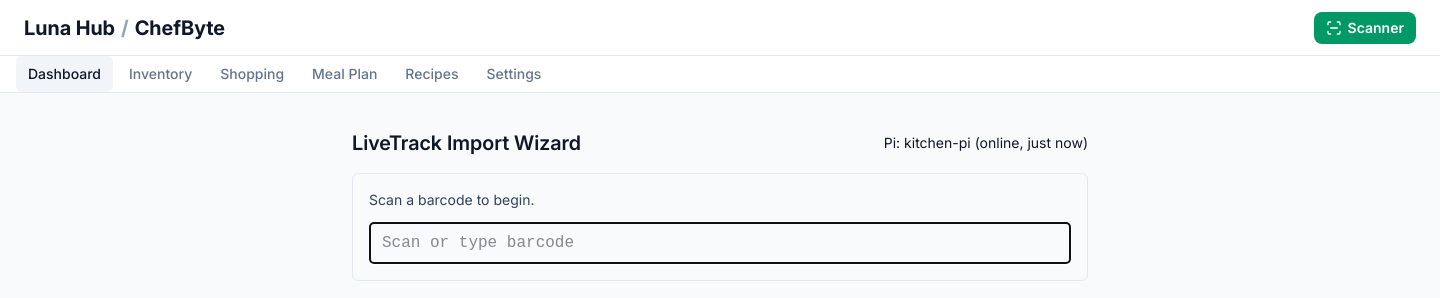
it: LiveTrackImportPage — OFF-miss is a NORMAL case, not a fatal error › hard error (500 from analyze-product) STILL shows the error panel — only OFF-miss is graceful
This screenshot has width=1440, height=298.
Expected: the element with test id "livetrack-waiting-barcode" is shown, top-left (352, 173), bottom-right (1088, 281)
Step 1. Type "777777777777" into the field with test id "livetrack-barcode-input" → (720, 243), box top-left (369, 222), bottom-right (1071, 264)
Then press Enter
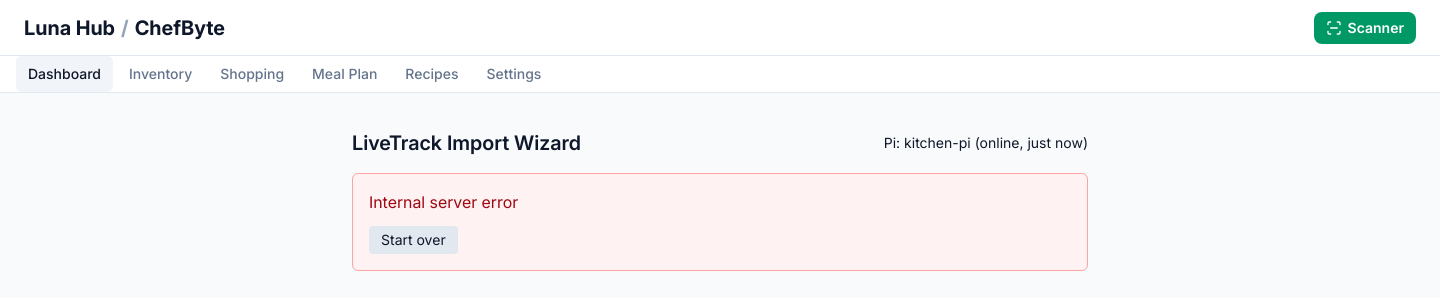
Now the element with test id "livetrack-error" is shown, box top-left (352, 173), bottom-right (1088, 271)
